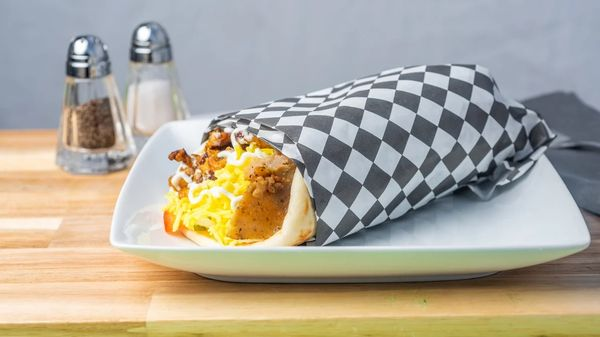burger: (55, 33, 137, 174), (125, 21, 188, 141)
curry: (2, 16, 599, 330)
